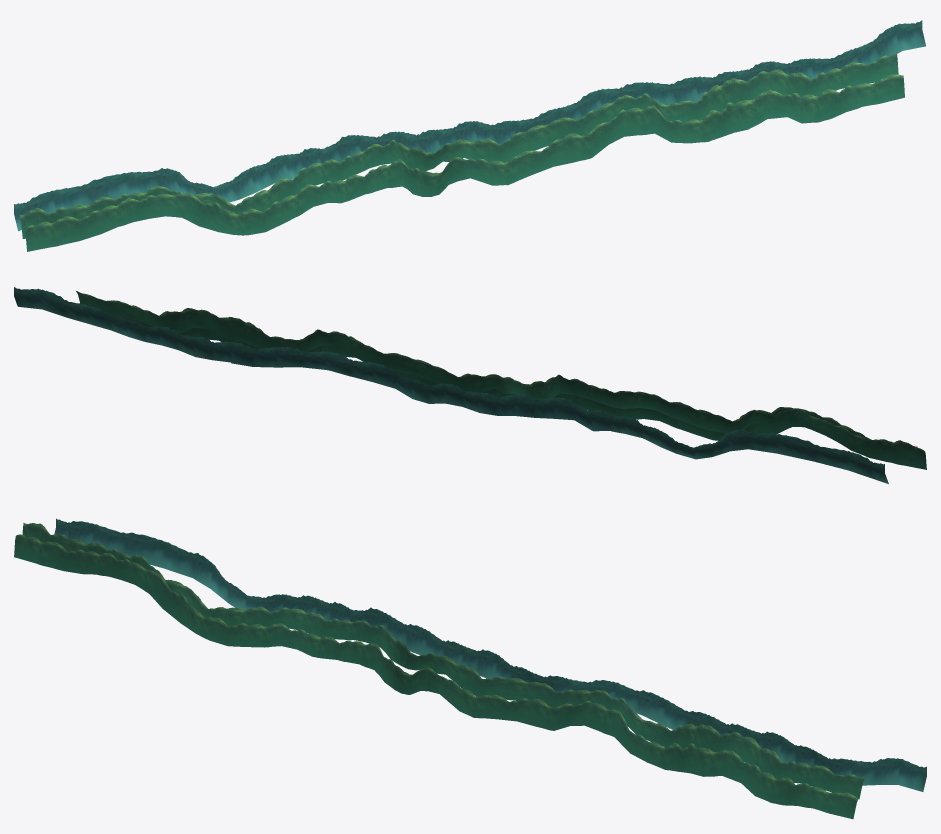
Rendered from Level 8 Horizon.FBX.
3 renders of one model, top to bottom at view 1: azimuth 30°, elevation 25°; view 2: azimuth 150°, elevation 25°; view 3: azimuth 330°, elevation 25°, orthographic. The views are drawn at different scales.
Parts seen in each view (by area): view 1: Horizon FG LVL 8, Horizon BG LVL 8; view 2: Horizon FG LVL 8, Horizon BG LVL 8; view 3: Horizon FG LVL 8, Horizon BG LVL 8.
Boxes of the visible parts, box(x1,y1,x2,y2) form: Horizon FG LVL 8: box(20, 52, 904, 251); Horizon BG LVL 8: box(14, 20, 925, 231); Horizon FG LVL 8: box(76, 291, 926, 469); Horizon BG LVL 8: box(14, 287, 888, 483); Horizon FG LVL 8: box(14, 522, 864, 819); Horizon BG LVL 8: box(54, 518, 926, 791).
Bounding box in the file's own units: 39261 × 2729 × 3943.
